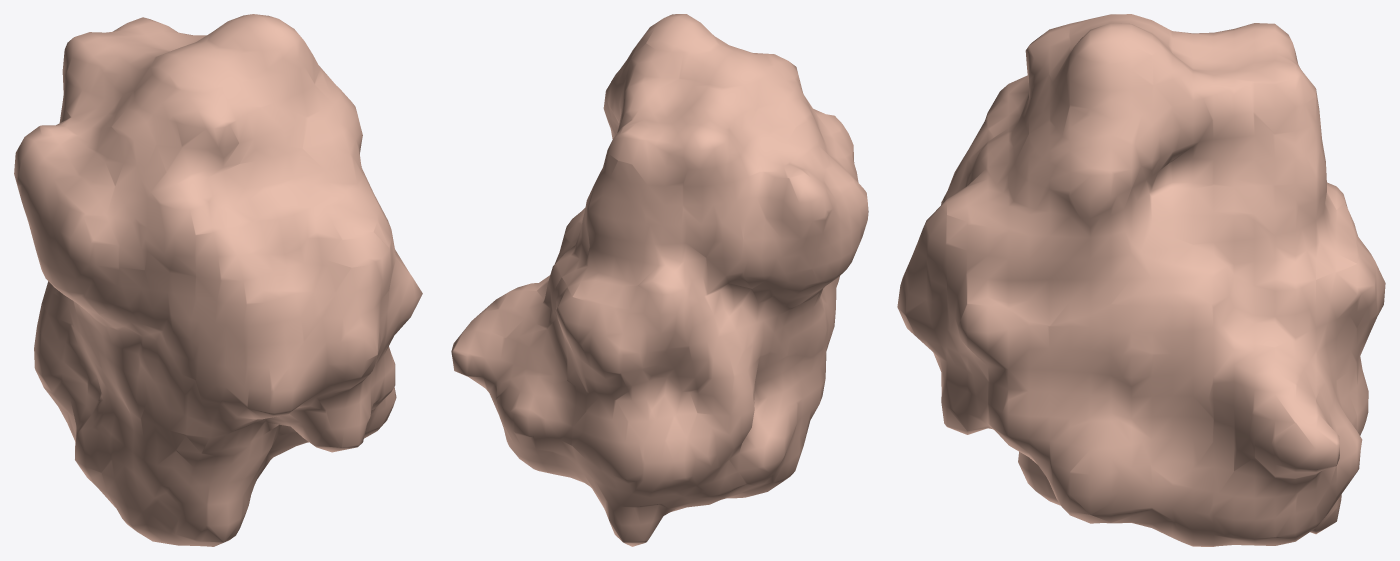
The model's file is thioltransferase.dae.
3 views of the same model, side by side, from view 1: azimuth 30°, elevation 25°; view 2: azimuth 150°, elevation 25°; view 3: azimuth 270°, elevation 25° (orthographic). The views are drawn at different scales.
Parts seen in each view (by area): view 1: CoarseMS_1b4q; view 2: CoarseMS_1b4q; view 3: CoarseMS_1b4q.
Part boxes in pixels (left/top/right/bottom): CoarseMS_1b4q: left=14, top=14, right=422, bottom=546; CoarseMS_1b4q: left=451, top=14, right=868, bottom=546; CoarseMS_1b4q: left=897, top=14, right=1385, bottom=546.
Size of the model in its own units: 30.49 by 41.34 by 34.48.
